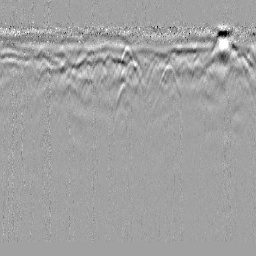cavity: (120, 45, 133, 62)
